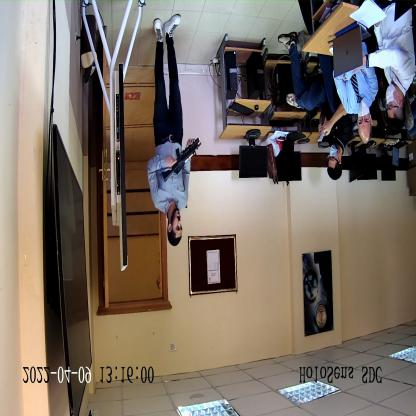handgun: (162, 132, 199, 184)
